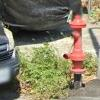a fire hydrant: (64, 14, 88, 74)
